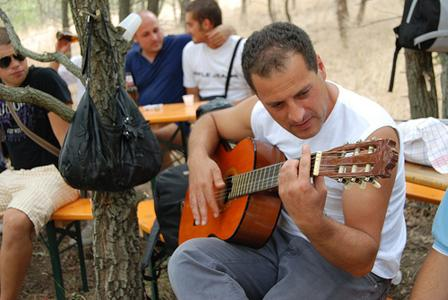person: (166, 21, 408, 300)
